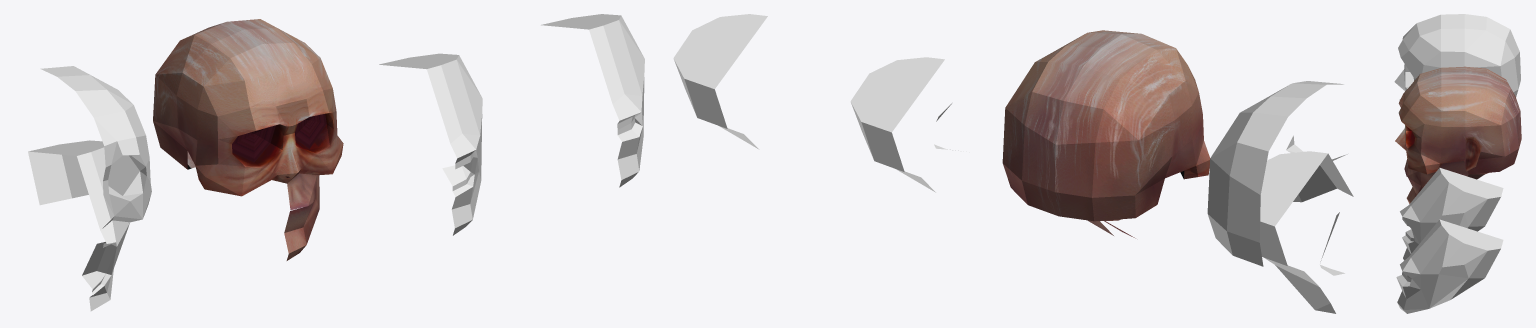
The picture shows the model from 3 angles, left to right: view 1: azimuth 30°, elevation 25°; view 2: azimuth 150°, elevation 25°; view 3: azimuth 270°, elevation 25°; orthographic projection. The views are drawn at different scales.
Parts seen in each view (by area): view 1: Cube, Cube.003, Cube.007, Cube.006, Cube.002, Cube.001; view 2: Cube, Cube.003, Cube.007, Cube.006, Cube.002; view 3: Cube, Cube.003, Cube.006, Cube.007, Cube.001, Cube.004.
Boxes of the visible parts, box(x1,y1,x2,y2) form: Cube: box(153, 19, 343, 196); Cube.003: box(28, 66, 151, 228); Cube.007: box(379, 53, 482, 235); Cube.006: box(541, 14, 644, 187); Cube.002: box(28, 140, 129, 311); Cube.001: box(284, 173, 319, 260); Cube: box(1002, 30, 1210, 221); Cube.003: box(1207, 81, 1353, 266); Cube.007: box(850, 57, 958, 192); Cube.006: box(673, 14, 767, 149); Cube.002: box(1259, 151, 1344, 313); Cube: box(1395, 66, 1521, 174); Cube.003: box(1394, 14, 1520, 96); Cube.006: box(1396, 219, 1503, 313); Cube.007: box(1400, 167, 1503, 260); Cube.001: box(1404, 159, 1484, 203); Cube.004: box(1464, 136, 1482, 171).
Size of the model in its own units: 4.93 by 1.8 by 1.46.
Materials: 2 (2 with a texture image).
